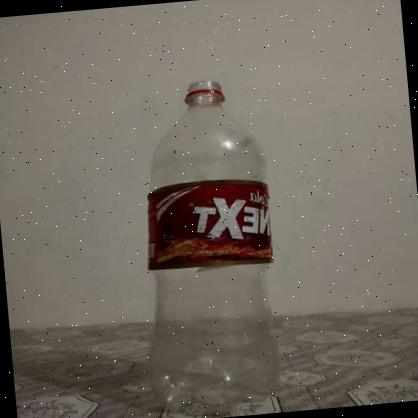bottle: (118, 74, 292, 418)
label: (141, 174, 278, 271)
